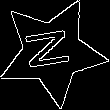N_E: (24, 28, 80, 76)
